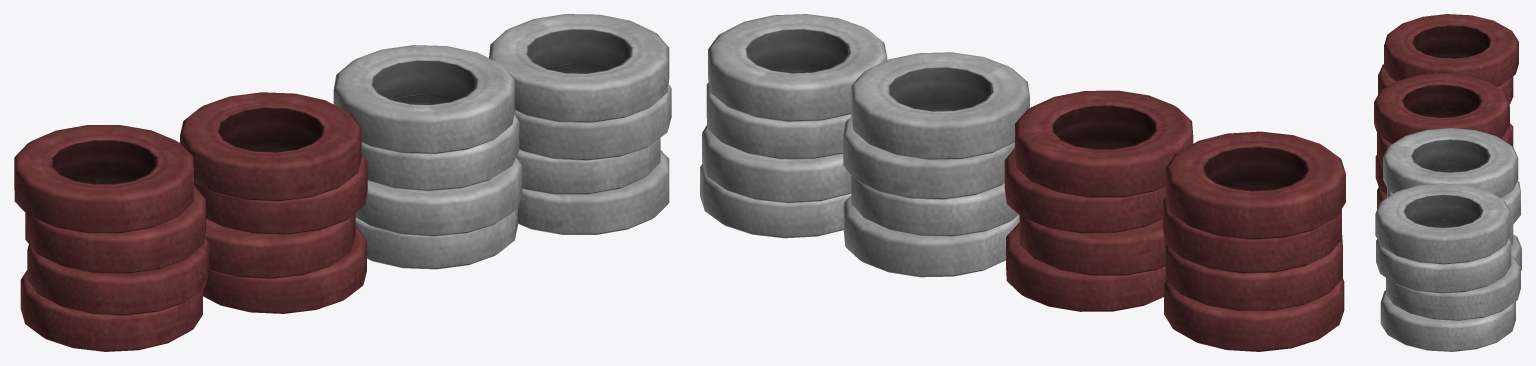
Rendered from tire-wall.glb.
3 renders of one model, left to right at view 1: azimuth 30°, elevation 25°; view 2: azimuth 150°, elevation 25°; view 3: azimuth 270°, elevation 25°, orthographic. The views are drawn at different scales.
Parts seen in each view (by area): view 1: Tyrewall-material; view 2: Tyrewall-material; view 3: Tyrewall-material.
Part boxes in pixels (x1,y1,x2,y2): Tyrewall-material: [14, 14, 671, 351]; Tyrewall-material: [700, 14, 1345, 351]; Tyrewall-material: [1374, 14, 1521, 351].
Size of the model in its own units: 4.03 by 0.9715 by 1.1.
Materials: 1 (1 with a texture image).
